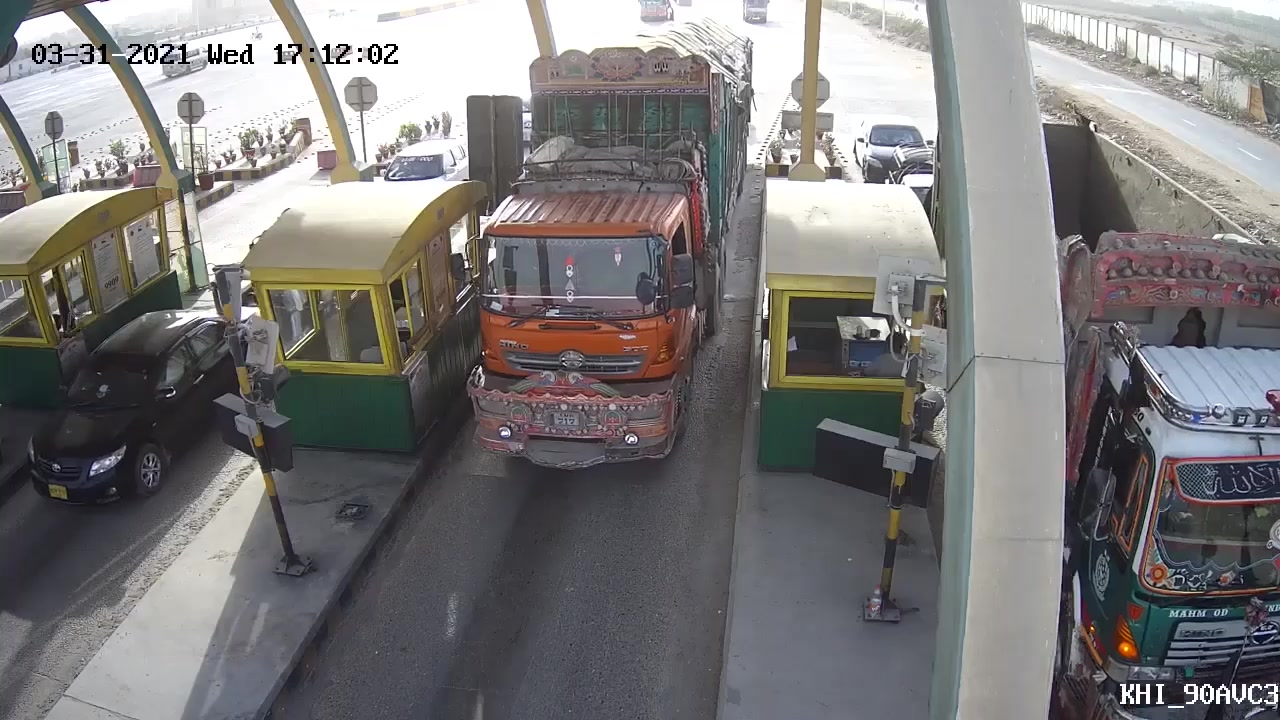F6: (451, 10, 759, 482)
